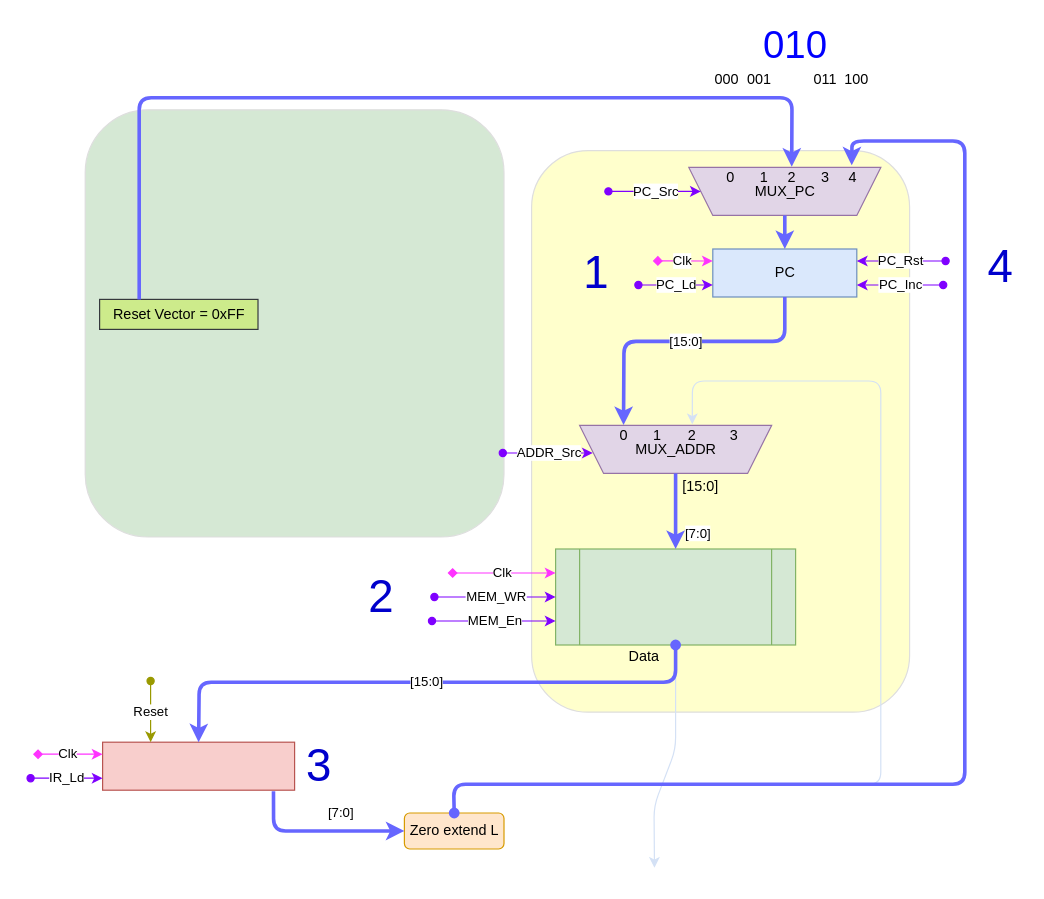
Some shapes in this 1044 by 899 pixel diagram are drawn without their labels. Each missing label, with the centre of its shape:
IR: pixel 198 765
Memory BRAM 256x16: pixel 675 596
